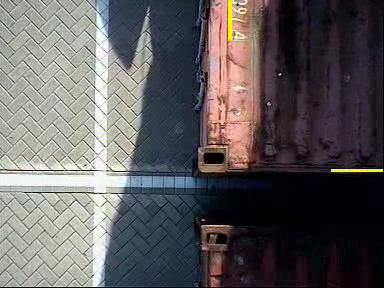groundmarker_2: (197, 162, 234, 213), (199, 1, 225, 39)
